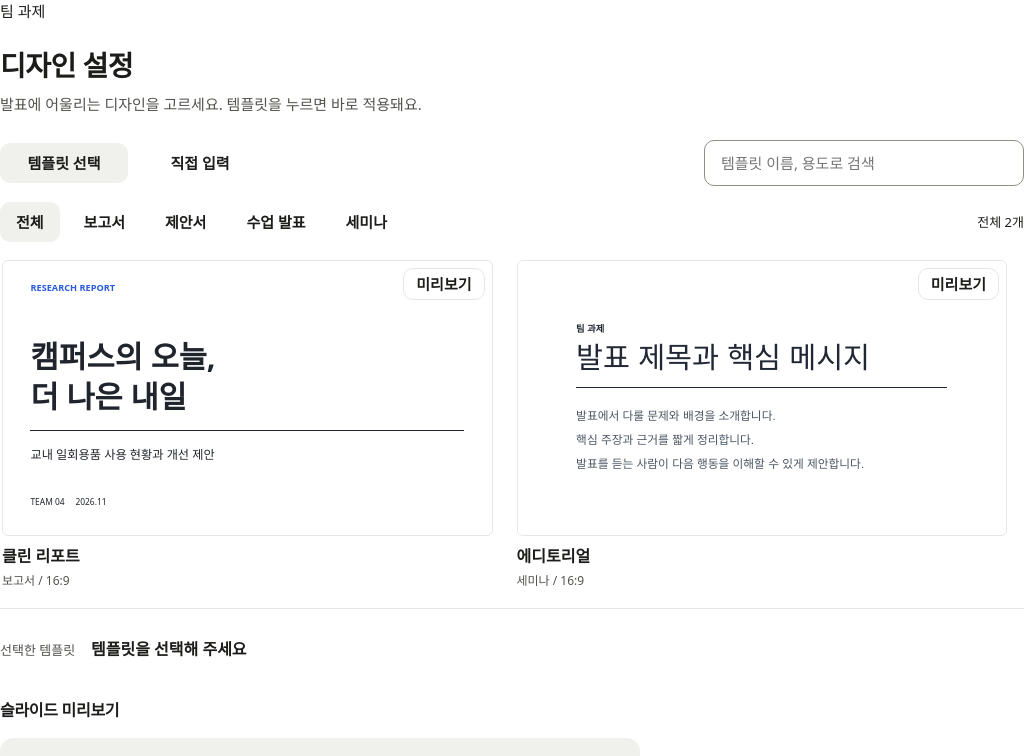
Test: 목차와 본문 시안이 있는 템플릿은 상세 미리보기에 시안을, 없는 템플릿은 공통 예시를 보여 준다
The image size is (1024, 756).
Click the button with aria-label "클린 리포트 미리보기": (444, 284) [403,268,484,300]
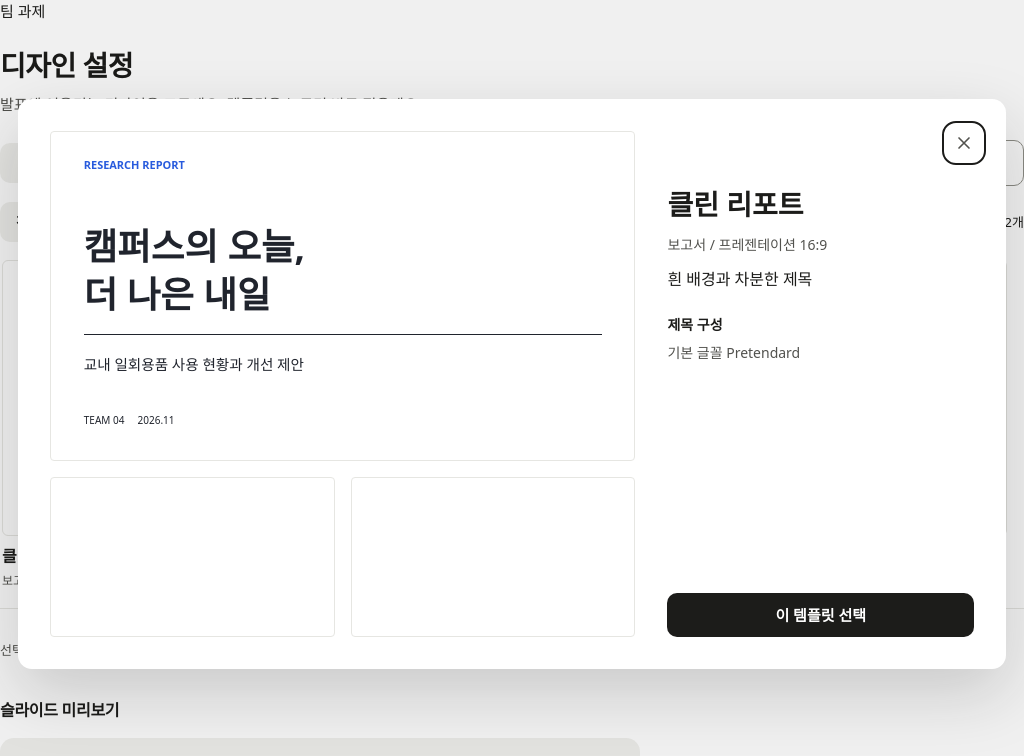
Click the button named "닫기": (964, 143) [946,125,982,161]
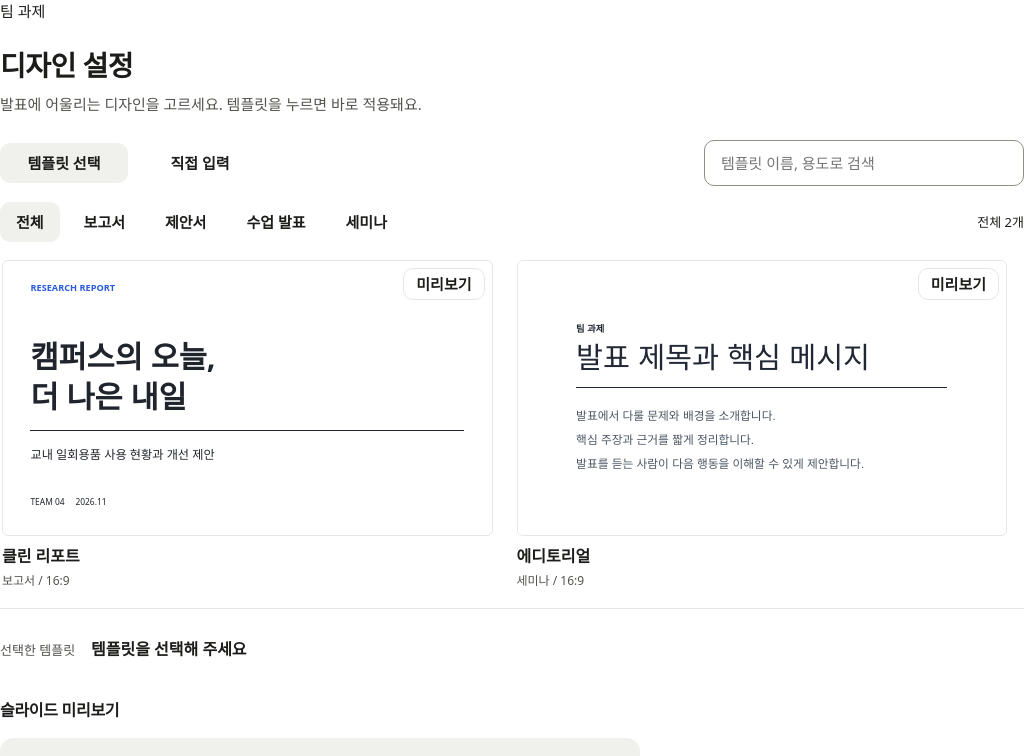
Click the button with aria-label "에디토리얼 미리보기": (958, 284) [918,268,999,300]
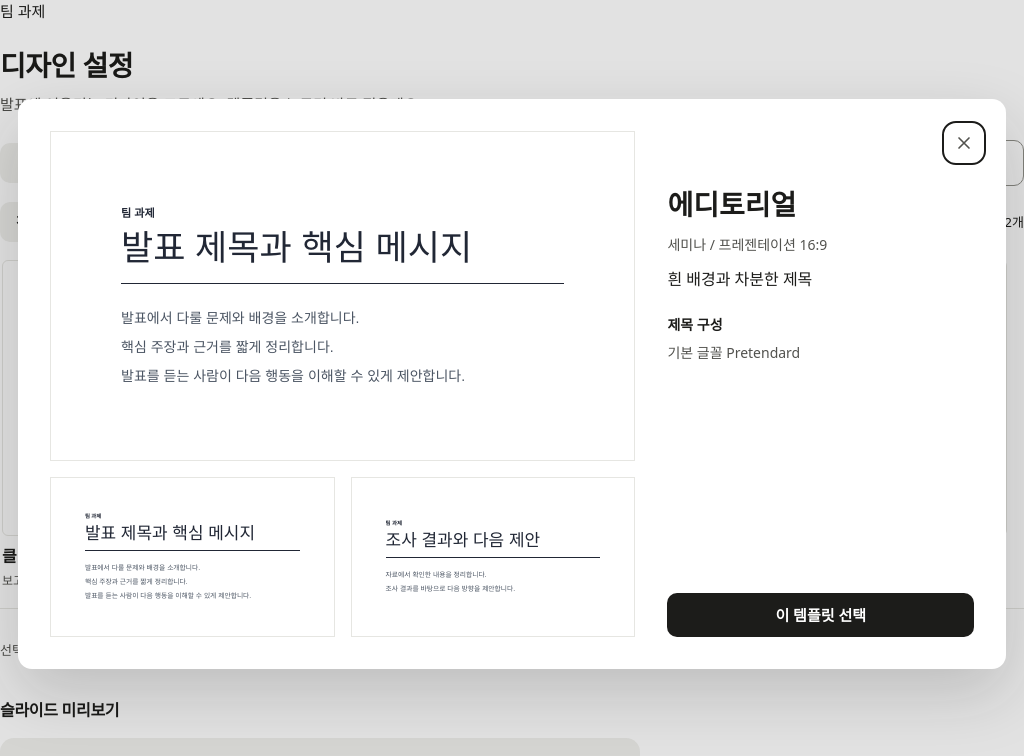
Expected: the 1st text "발표 제목과 핵심 메시지" is shown, [121,228,472,267]
